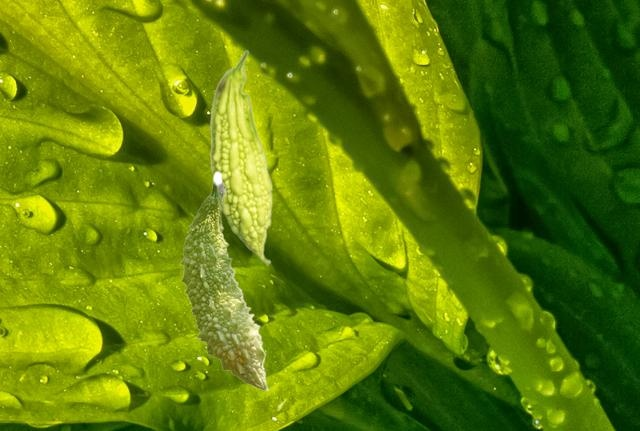ampalaya: (178, 171, 269, 391), (208, 49, 274, 268)
